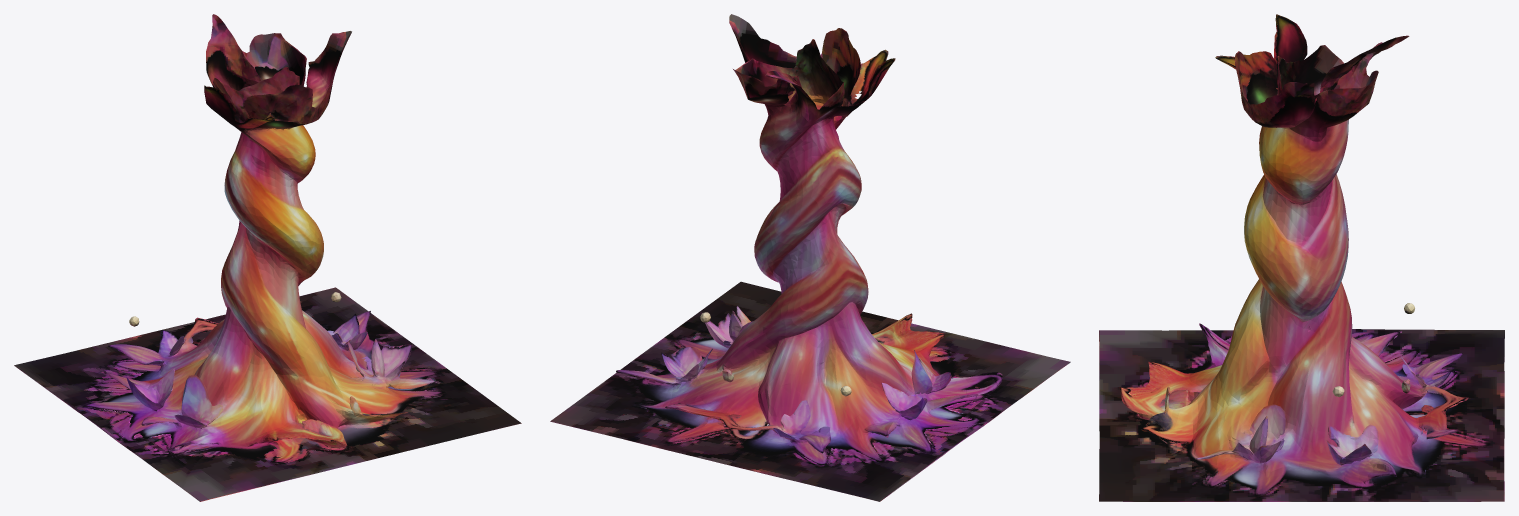
Rendered from env-tree-b.glb.
3 views of the same model, side by side, from view 1: azimuth 30°, elevation 25°; view 2: azimuth 150°, elevation 25°; view 3: azimuth 270°, elevation 25° (orthographic). The views are drawn at different scales.
Visible parts, largest first — view 1: world; view 2: world; view 3: world.
Boxes of the visible parts, x1,y1,x2,y2 form: world: [14, 14, 521, 501]; world: [550, 14, 1070, 501]; world: [1099, 14, 1504, 501].
Size of the model in its own units: 0.8579 by 0.9208 by 0.8591.
Materials: 1 (1 with a texture image).
